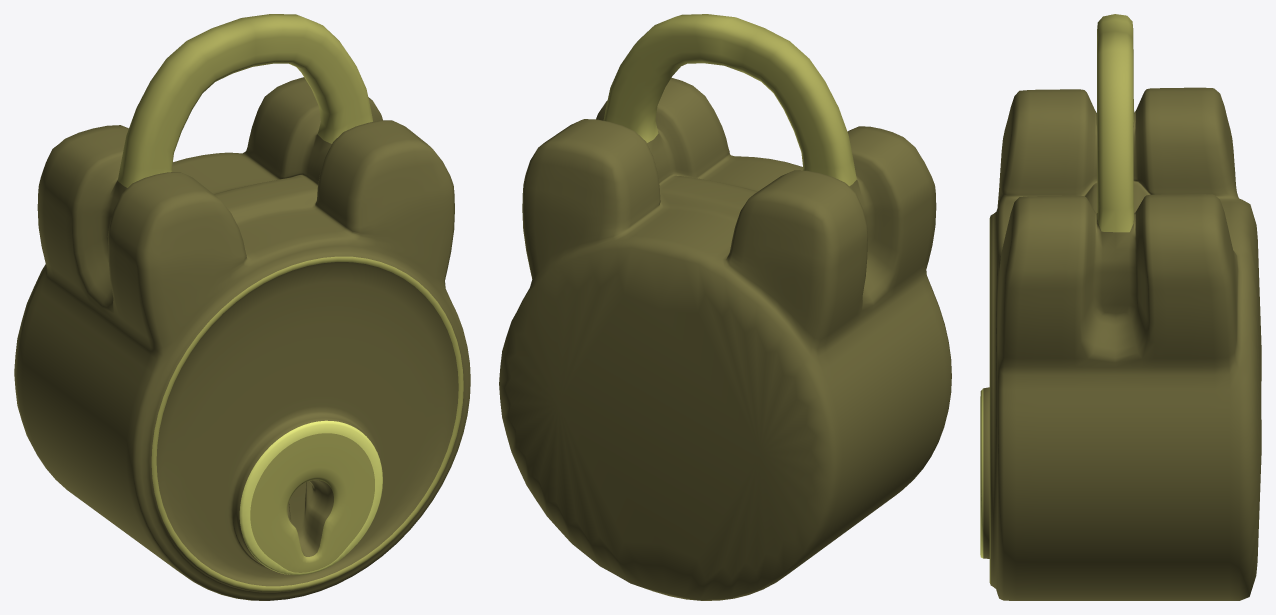
Rendered from OldLock.fbx.
The picture shows the model from 3 angles, left to right: view 1: azimuth 30°, elevation 25°; view 2: azimuth 150°, elevation 25°; view 3: azimuth 270°, elevation 25°; orthographic projection. The views are drawn at different scales.
Visible parts, largest first — view 1: FancyLock; view 2: FancyLock; view 3: FancyLock.
Part boxes in pixels (<box>): FancyLock: <box>14,14,470,600</box>; FancyLock: <box>499,14,951,600</box>; FancyLock: <box>980,14,1261,600</box>.
Bounding box in the file's own units: 199 × 301 × 139.
